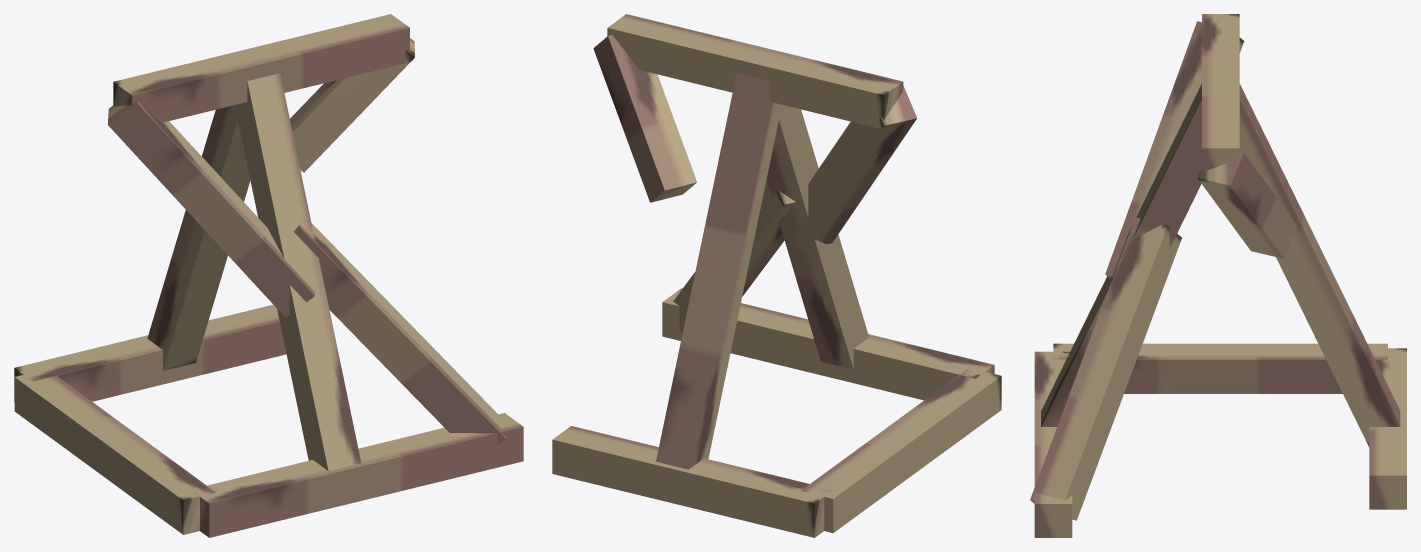
Rendered from Building_AncientCraneArmSmall.obj.
3 renders of one model, left to right at view 1: azimuth 30°, elevation 25°; view 2: azimuth 150°, elevation 25°; view 3: azimuth 270°, elevation 25°, orthographic.
Visible parts, largest first — view 1: Body; view 2: Body; view 3: Body.
Boxes of the visible parts, box(x1,y1,x2,y2) form: Body: box(14, 14, 523, 537); Body: box(552, 14, 1001, 537); Body: box(1030, 14, 1406, 537).
Bounding box in the file's own units: 0.905 × 0.99 × 0.9009.
Materials: 1 (1 with a texture image).
